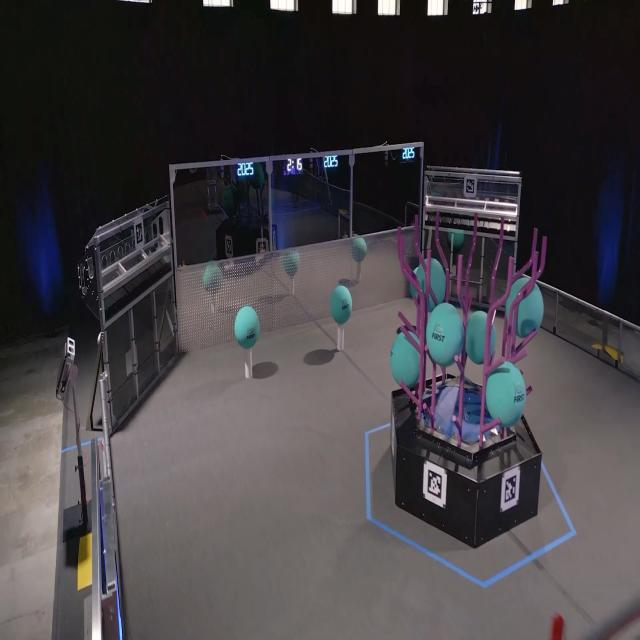Algae: (485, 361, 526, 426), (426, 303, 464, 367), (505, 277, 544, 338), (390, 331, 420, 387), (465, 311, 496, 365), (416, 258, 446, 313), (234, 305, 260, 349), (330, 284, 353, 324)
Coral: (468, 0, 619, 10), (223, 0, 301, 10), (375, 0, 401, 13), (332, 0, 358, 11), (428, 0, 449, 13), (338, 322, 344, 352)
